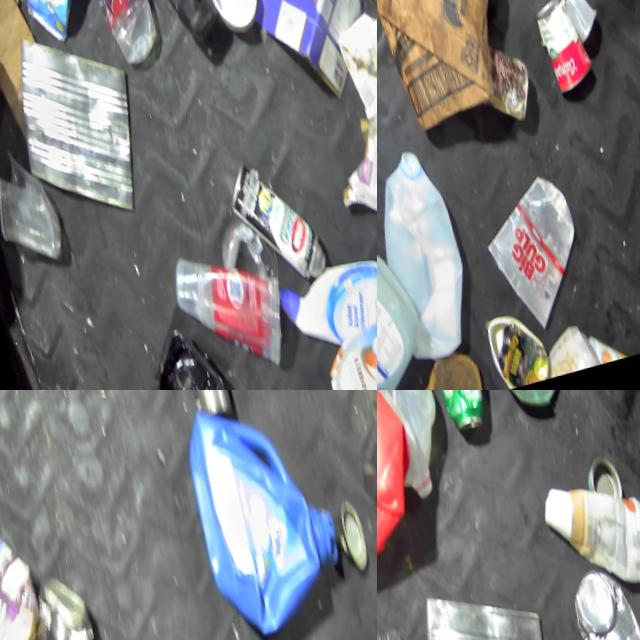can: (0, 12, 153, 239), (521, 0, 596, 115), (557, 573, 640, 640), (17, 577, 101, 640), (421, 390, 493, 448)
milk_jug: (377, 147, 471, 364), (377, 390, 461, 527), (377, 241, 430, 390)
non_white_jug: (171, 390, 349, 640), (223, 0, 376, 114), (299, 301, 377, 390)
plastic_bottle: (159, 390, 233, 436)
